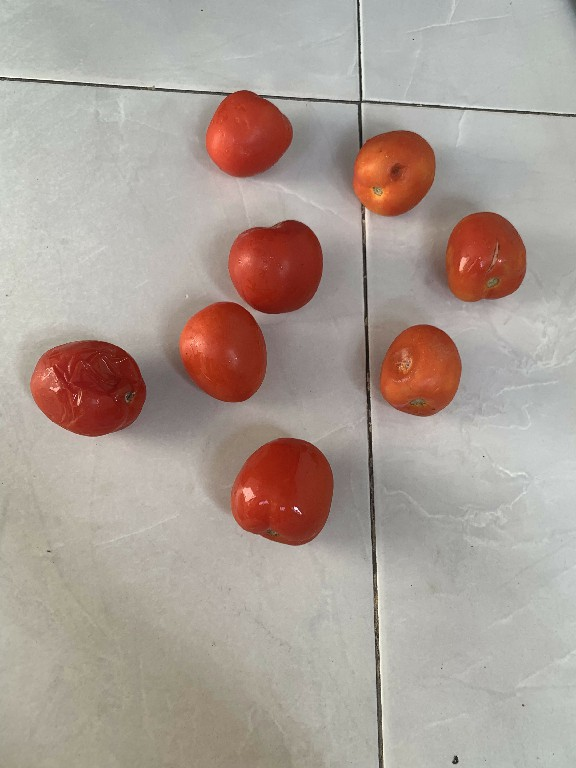NG: (22, 339, 140, 435), (373, 321, 464, 419), (442, 207, 528, 303), (344, 129, 440, 215)
OK: (225, 435, 342, 544), (218, 212, 325, 316), (173, 296, 272, 405), (195, 84, 300, 179)
